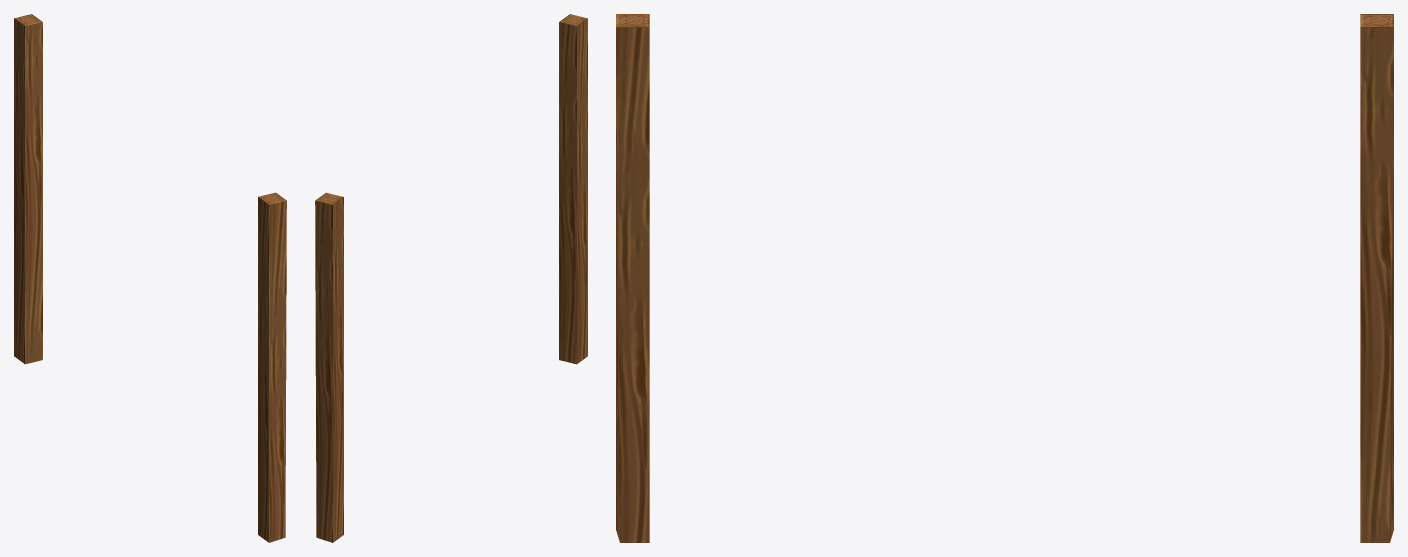
3 views of the same model, side by side, from view 1: azimuth 30°, elevation 25°; view 2: azimuth 150°, elevation 25°; view 3: azimuth 270°, elevation 25° (orthographic). The views are drawn at different scales.
Visible parts, largest first — view 1: Cube.1720; view 2: Cube.1720; view 3: Cube.1720.
Part boxes in pixels (box(x1,y1,x2,y2)): Cube.1720: box(14, 14, 286, 542); Cube.1720: box(315, 14, 587, 542); Cube.1720: box(616, 14, 1393, 542).
Size of the model in its own units: 36.76 by 668 by 914.
Materials: 1 (1 with a texture image).
